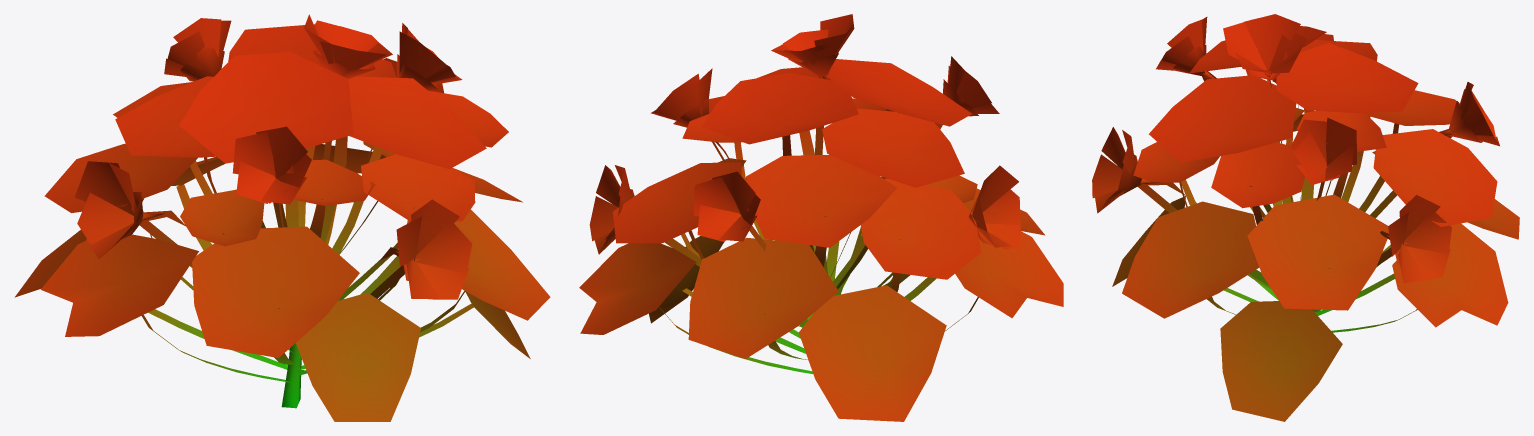
Rendered from Var5_LOD0.fbx.
3 views of the same model, side by side, from view 1: azimuth 30°, elevation 25°; view 2: azimuth 150°, elevation 25°; view 3: azimuth 270°, elevation 25° (orthographic). The views are drawn at different scales.
Visible parts, largest first — view 1: _4d16_Var5_LOD0; view 2: _4d16_Var5_LOD0; view 3: _4d16_Var5_LOD0.
Boxes of the visible parts, x1,y1,x2,y2 form: _4d16_Var5_LOD0: (14, 14, 550, 421); _4d16_Var5_LOD0: (579, 14, 1063, 421); _4d16_Var5_LOD0: (1092, 14, 1519, 421).
Bounding box in the file's own units: 29.82 × 23.79 × 27.59.
